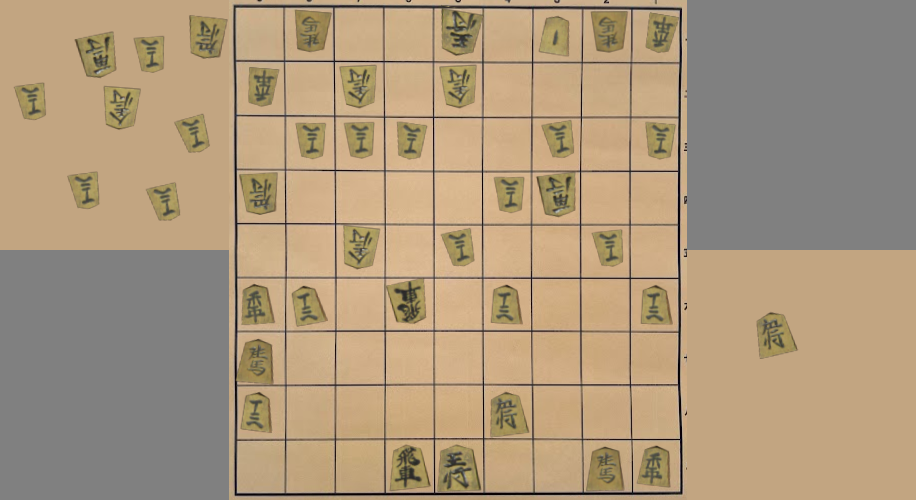A: (438, 445, 480, 492), (490, 392, 528, 437), (391, 446, 429, 491), (587, 447, 623, 490), (238, 340, 273, 384), (292, 287, 326, 326), (638, 446, 670, 487), (241, 285, 274, 324), (491, 285, 522, 324), (241, 393, 271, 433), (641, 286, 671, 325), (540, 17, 569, 56)
B: (441, 10, 482, 55), (387, 280, 425, 324), (537, 174, 575, 217), (344, 226, 379, 269), (240, 174, 277, 214), (340, 67, 376, 108), (295, 11, 330, 52), (441, 67, 475, 107), (592, 12, 626, 52), (646, 13, 678, 53), (249, 67, 279, 106), (442, 229, 473, 266), (543, 121, 573, 157), (593, 231, 622, 266), (297, 123, 325, 159), (345, 122, 373, 158), (398, 123, 426, 159), (495, 177, 523, 213), (646, 123, 674, 159)
C: (757, 313, 797, 359)
D: (76, 32, 115, 77), (190, 16, 227, 58), (104, 87, 140, 129), (175, 115, 209, 152), (147, 183, 179, 220), (68, 172, 99, 209), (15, 83, 45, 120), (135, 36, 163, 72)
